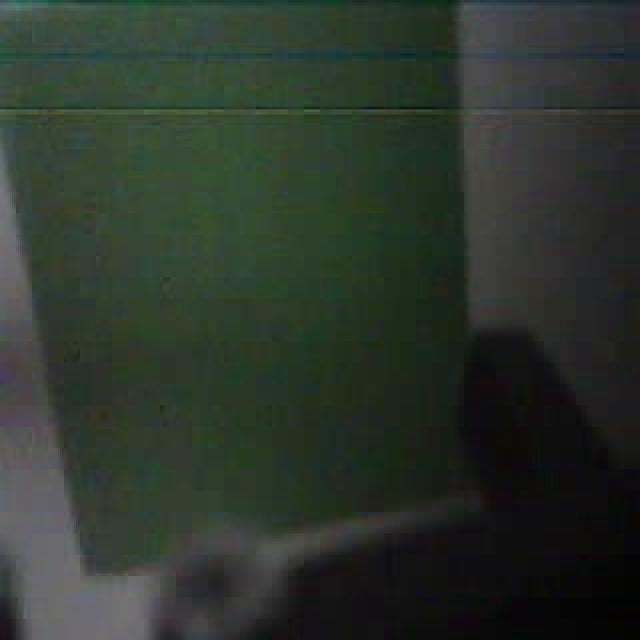green_box: (5, 4, 497, 555)
